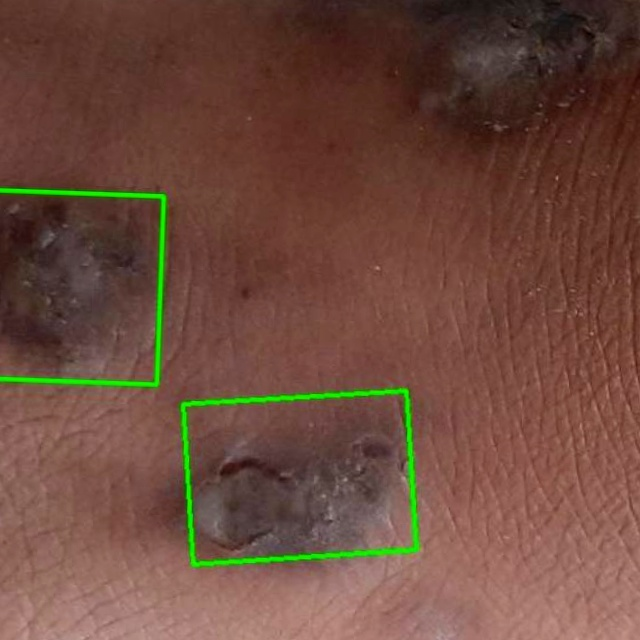Contact Dermatitis: (183, 391, 416, 564), (0, 190, 163, 384)
